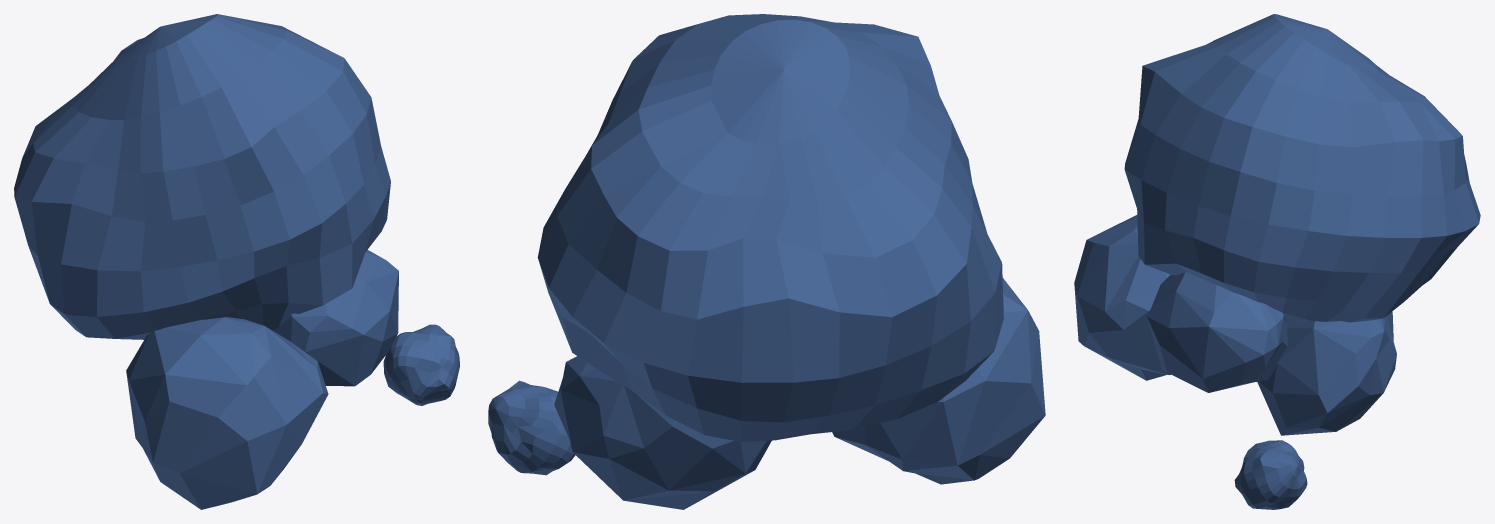
Rendered from tree-winter-leaves-9-052.glb.
3 renders of one model, left to right at view 1: azimuth 30°, elevation 25°; view 2: azimuth 150°, elevation 25°; view 3: azimuth 270°, elevation 25°, orthographic. The views are drawn at different scales.
Parts seen in each view (by area): view 1: TREE 9.005_208; view 2: TREE 9.005_208; view 3: TREE 9.005_208.
Boxes of the visible parts, x1,y1,x2,y2 form: TREE 9.005_208: (14,14,459,509); TREE 9.005_208: (488,14,1045,509); TREE 9.005_208: (1074,14,1480,509).
Bounding box in the file's own units: 1.3 × 1.3 × 1.22.
